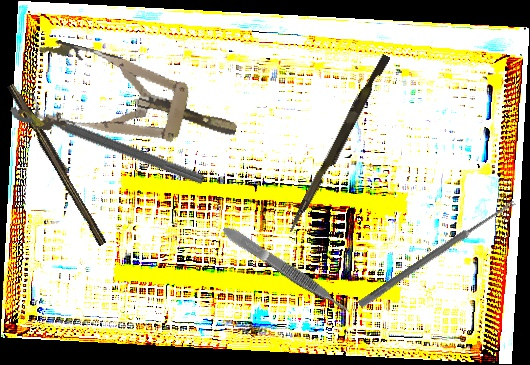Fixation Ring: (8, 86, 211, 190)
Pusher: (287, 51, 391, 237)
Scalpel Handle: (4, 81, 112, 247)
Speculum: (15, 35, 247, 175)
Surgical Spoon: (357, 197, 517, 310)
Tissue Forceps: (219, 222, 354, 319)
